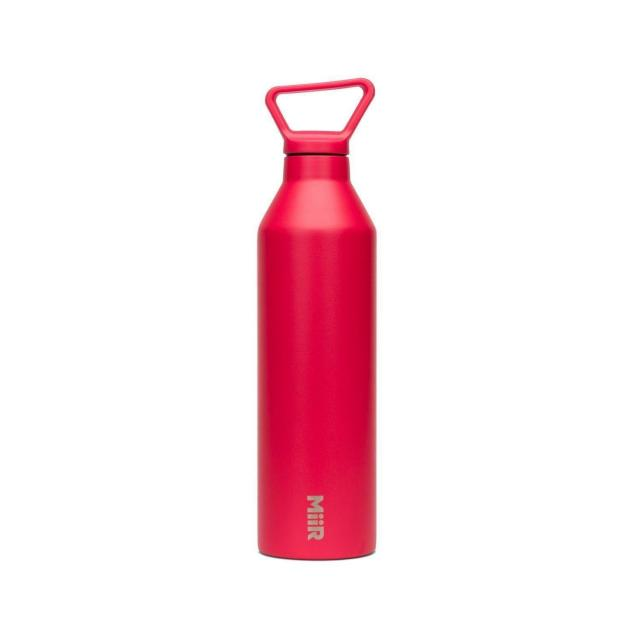gym bottle: (252, 74, 384, 565)
